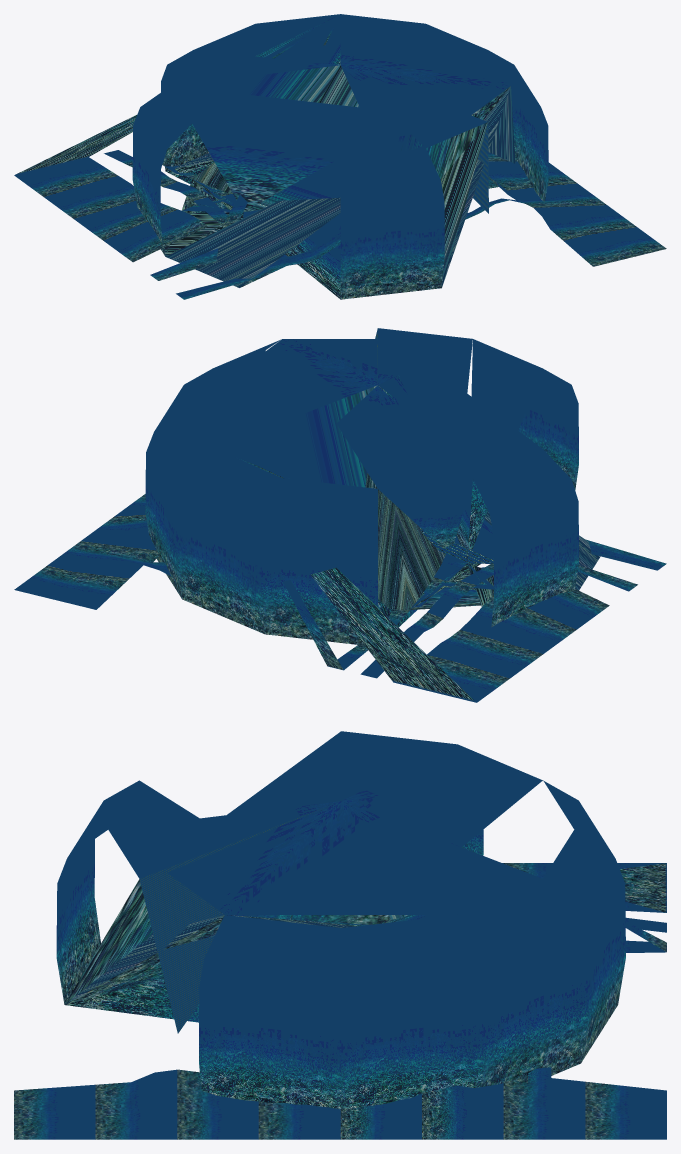
The model's file is sky-seabed-01.obj.
The picture shows the model from 3 angles, top to bottom: view 1: azimuth 30°, elevation 25°; view 2: azimuth 150°, elevation 25°; view 3: azimuth 270°, elevation 25°; orthographic projection. The views are drawn at different scales.
Parts seen in each view (by area): view 1: mesh_sky_0; view 2: mesh_sky_0; view 3: mesh_sky_0.
Part boxes in pixels (x1,y1,x2,y2): mesh_sky_0: (14,14,666,299); mesh_sky_0: (14,328,666,702); mesh_sky_0: (14,731,666,1139).
Bounding box in the file's own units: 16840 × 6810 × 16792.
Materials: 1 (1 with a texture image).
